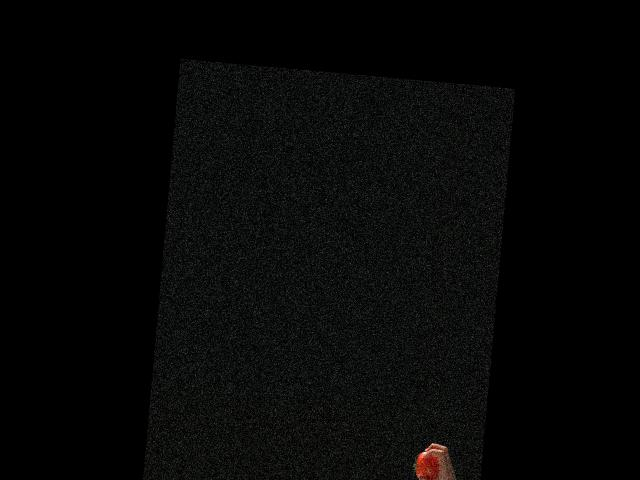tomato: (412, 451, 439, 480)
